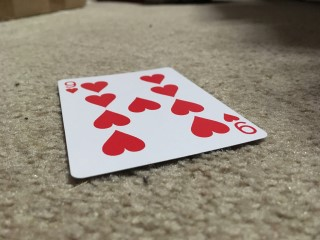NineOfHearts: (58, 67, 267, 179)
